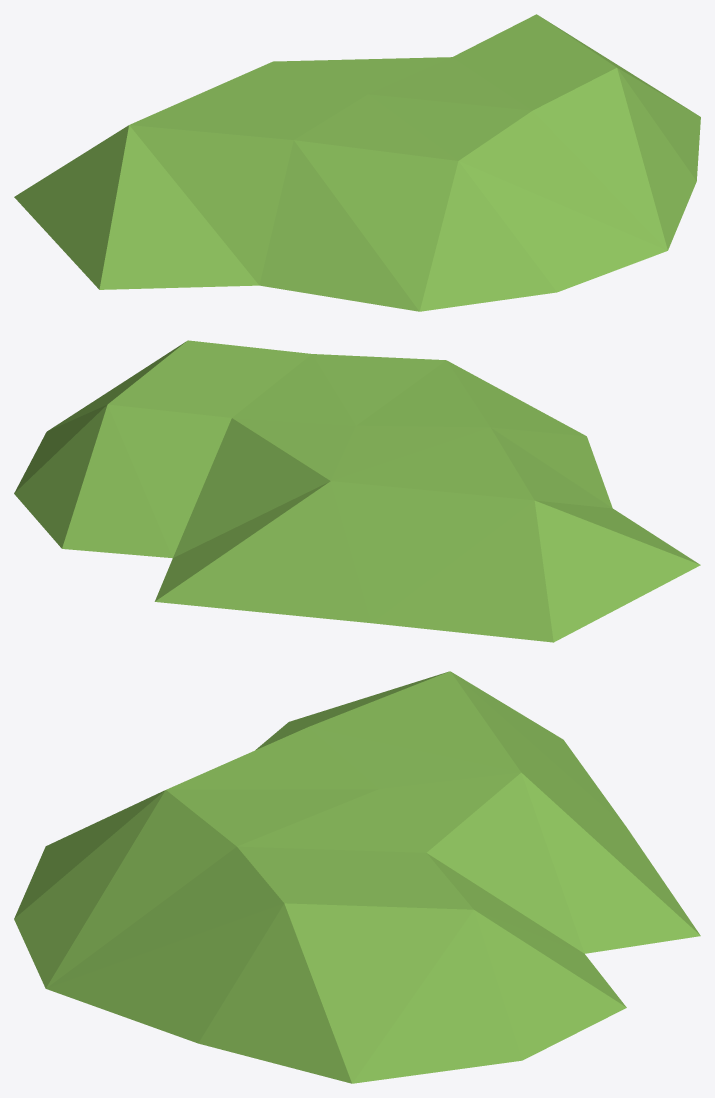
File: MT_Mountain_S_b_06_LOD.fbx
3 renders of one model, top to bottom at view 1: azimuth 30°, elevation 25°; view 2: azimuth 150°, elevation 25°; view 3: azimuth 270°, elevation 25°, orthographic. The views are drawn at different scales.
Visible parts, largest first — view 1: MT_Mountain_S_b_06_LOD0; view 2: MT_Mountain_S_b_06_LOD0; view 3: MT_Mountain_S_b_06_LOD0.
Boxes of the visible parts, bbox=[...] form: MT_Mountain_S_b_06_LOD0: bbox=[14, 14, 700, 311]; MT_Mountain_S_b_06_LOD0: bbox=[14, 340, 700, 642]; MT_Mountain_S_b_06_LOD0: bbox=[14, 671, 700, 1083].
Size of what is drawn, in the model's own units: 1696 by 254 by 1361.
